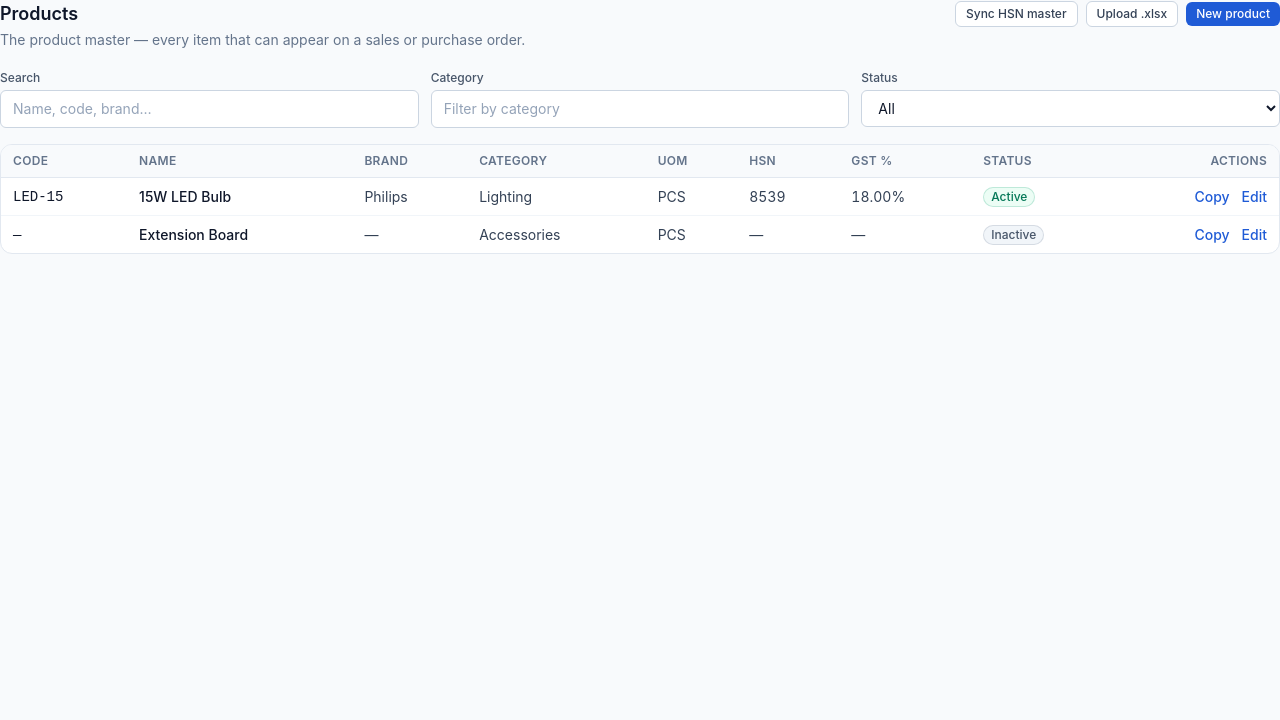
Scenario: ProductsPage › Sync HSN master POSTs the endpoint and surfaces created/updated counts + conflicts
The image size is (1280, 720).
Expected: the text "15W LED Bulb" is shown, [127,178,352,216]
Click the button "Sync HSN master".
click(1016, 14)  # box [955,0,1078,26]
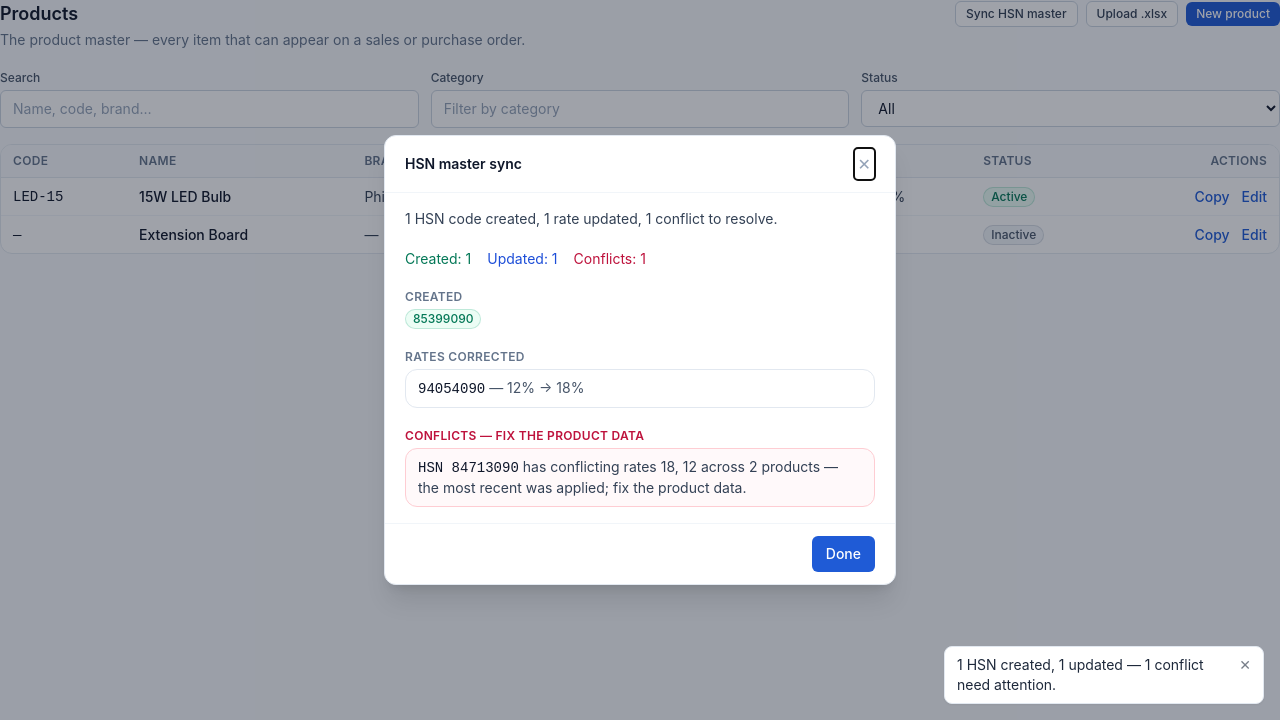
Result: the text "HSN 84713090" is shown at [418,460,519,476]
Result: the text "conflicting rates 18, 12" is shown at [418,458,838,496]
Result: the text "85399090" is shown at [405,309,482,329]
